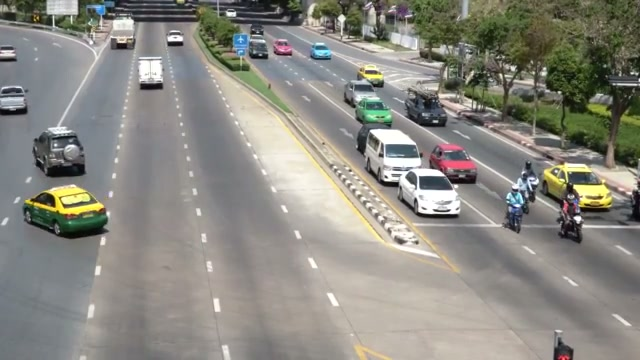car: (22, 184, 109, 236), (542, 162, 614, 210), (397, 168, 462, 217), (32, 126, 86, 177), (428, 142, 478, 183), (404, 92, 448, 127), (354, 96, 393, 127), (356, 122, 392, 155), (343, 79, 377, 106), (0, 85, 29, 114), (357, 64, 385, 88), (248, 37, 269, 59), (309, 42, 332, 60), (273, 39, 293, 55), (166, 30, 184, 47), (0, 45, 17, 61)
motorcycle: (556, 208, 584, 244), (504, 202, 524, 234)
pedestrian: (559, 183, 582, 227), (505, 184, 527, 223)
truck: (541, 162, 614, 211), (364, 128, 423, 185), (404, 88, 448, 127), (138, 55, 164, 89), (111, 16, 135, 49)
